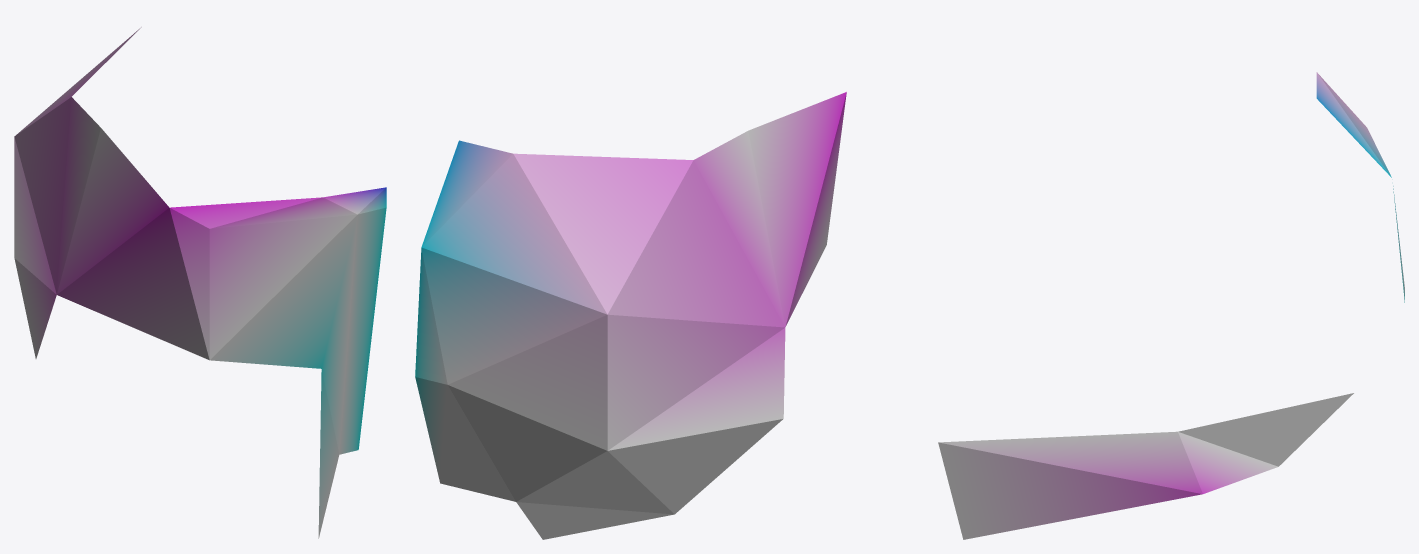
3 renders of one model, left to right at view 1: azimuth 30°, elevation 25°; view 2: azimuth 150°, elevation 25°; view 3: azimuth 270°, elevation 25°, orthographic. The views are drawn at different scales.
Parts seen in each view (by area): view 1: model_115B; view 2: model_115B; view 3: model_115B.
Part boxes in pixels (bbox=[...]): model_115B: bbox=[14, 27, 386, 538]; model_115B: bbox=[415, 92, 846, 539]; model_115B: bbox=[938, 72, 1404, 539].
Size of the model in its own units: 23 by 40 by 42.
